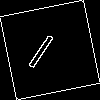I: (25, 25, 62, 71)
